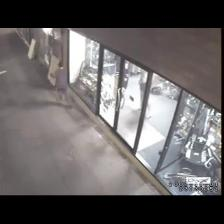person: (51, 62, 72, 107), (139, 70, 147, 109)
